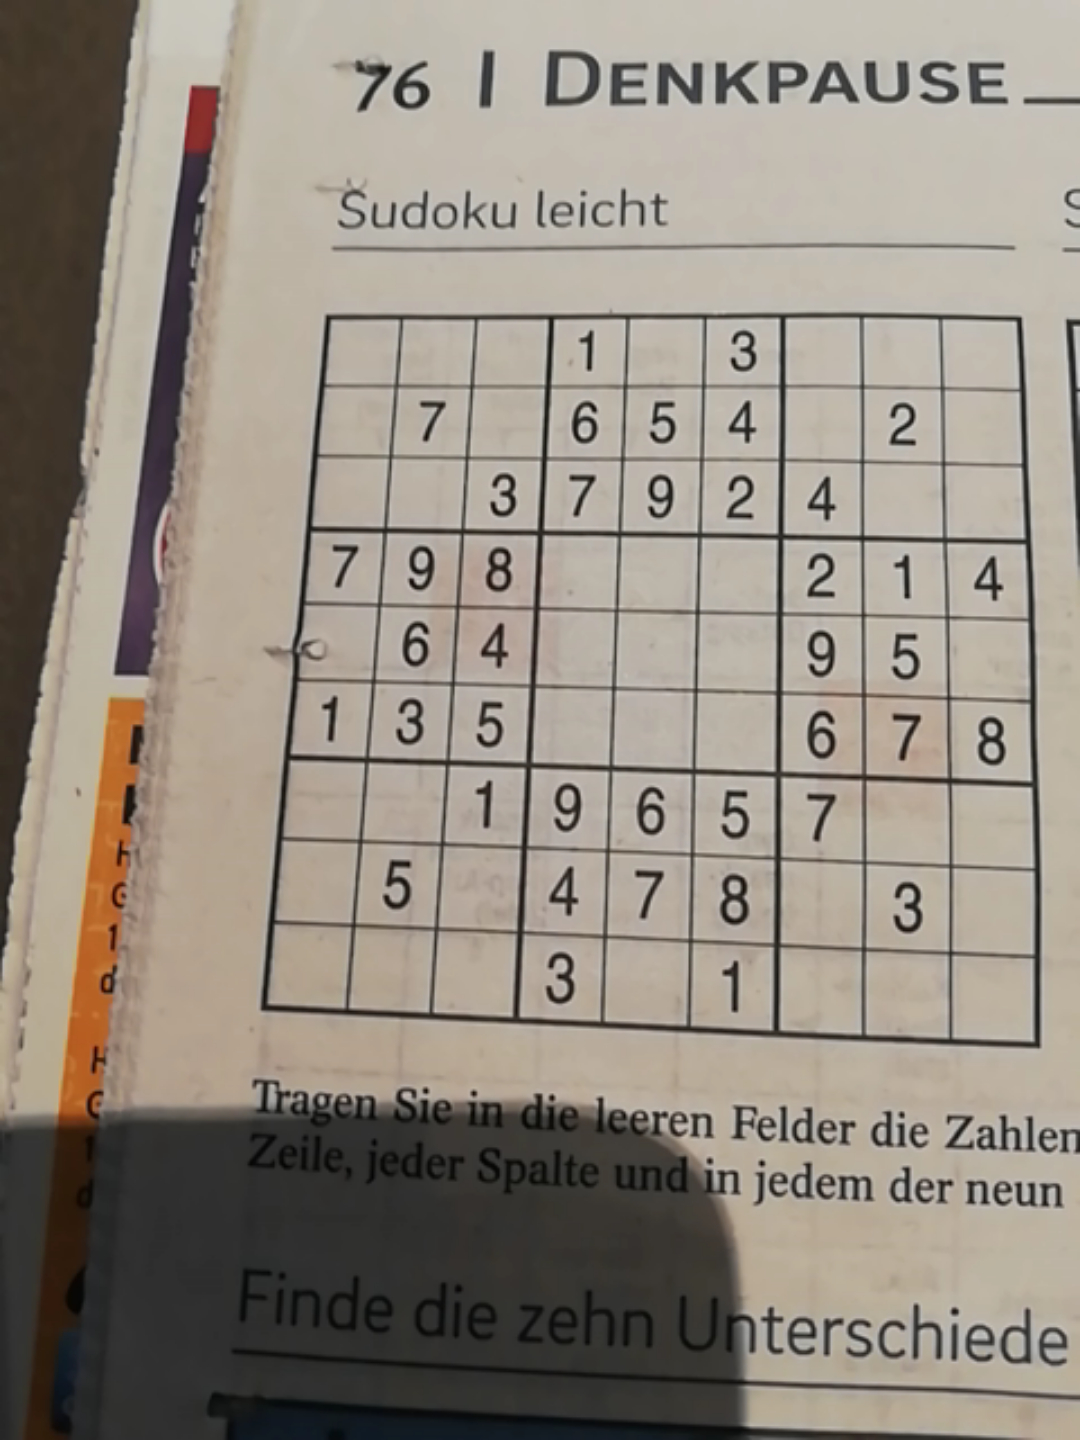sudoku: (252, 305, 1037, 1055)
